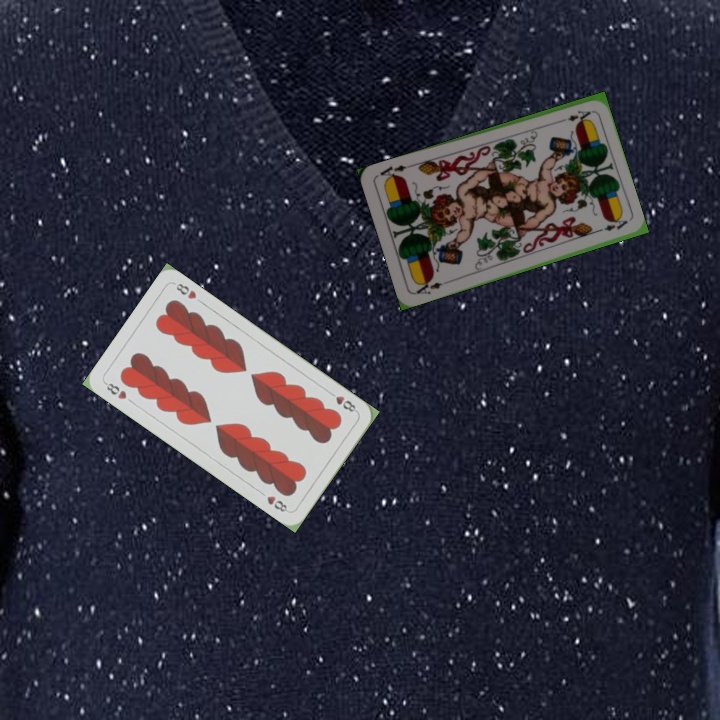EA: (411, 275, 450, 297), (555, 106, 593, 126)
H8: (324, 387, 360, 415), (100, 378, 129, 402)
